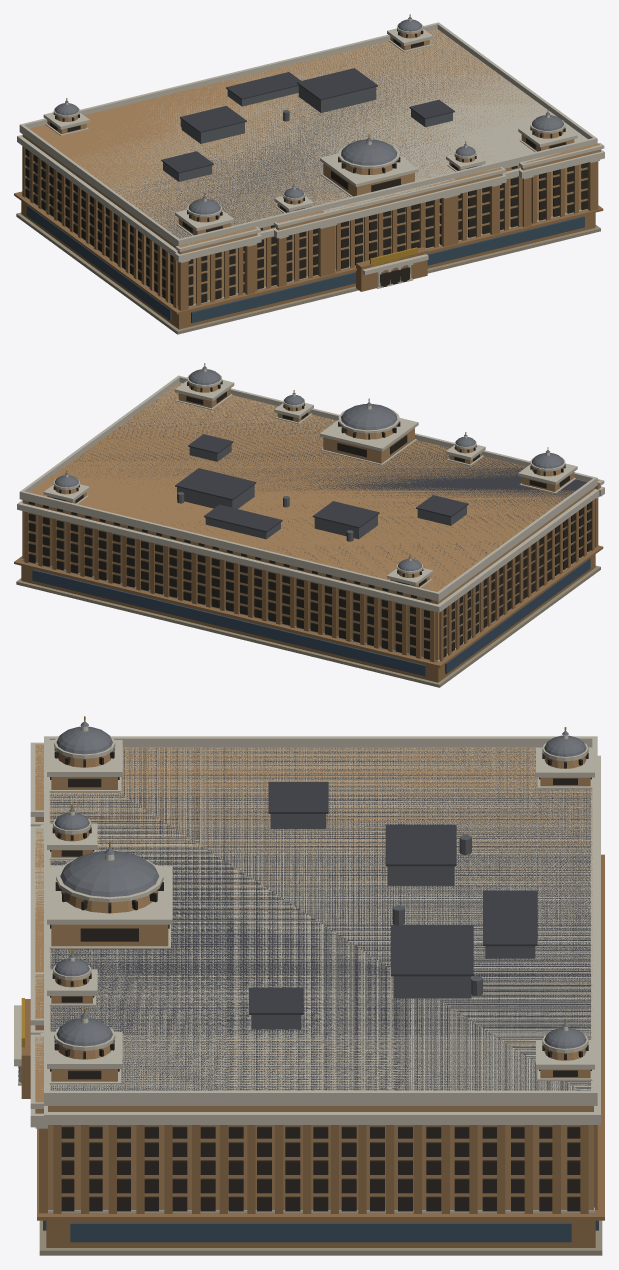
File: harrods.glb
3 renders of one model, top to bottom at view 1: azimuth 30°, elevation 25°; view 2: azimuth 150°, elevation 25°; view 3: azimuth 270°, elevation 25°, orthographic. The views are drawn at different scales.
Visible parts, largest first — view 1: harrods; view 2: harrods; view 3: harrods.
Part boxes in pixels (x1=…): harrods: x1=14, y1=14, x2=604, y2=334; harrods: x1=14, y1=363, x2=604, y2=687; harrods: x1=14, y1=716, x2=604, y2=1255.
Size of the model in its own units: 154 by 46.33 by 106.
